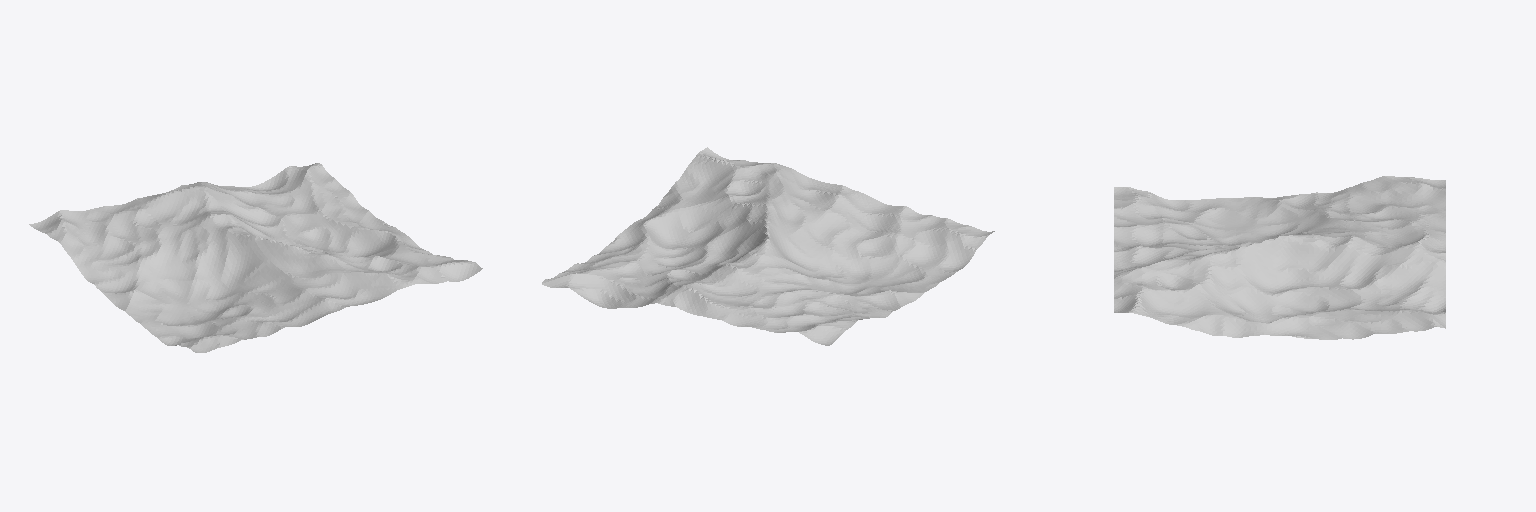
File: plains.obj
3 views of the same model, side by side, from view 1: azimuth 30°, elevation 25°; view 2: azimuth 150°, elevation 25°; view 3: azimuth 270°, elevation 25° (orthographic).
Visible parts, largest first — view 1: Plane_Plane.002; view 2: Plane_Plane.002; view 3: Plane_Plane.002.
Part boxes in pixels (x1,y1,x2,y2): Plane_Plane.002: (29,163,482,352); Plane_Plane.002: (542,147,994,345); Plane_Plane.002: (1114,176,1445,339).
Bounding box in the file's own units: 10000 × 1335 × 10000.